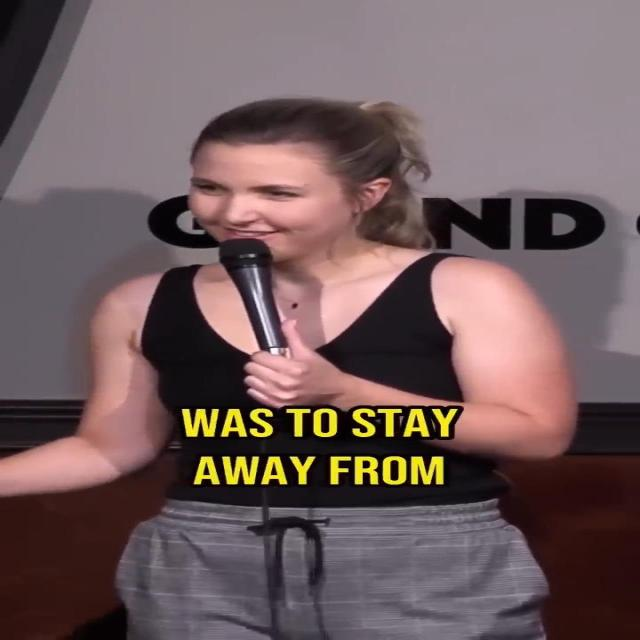NO-Mask: (187, 148, 369, 264)
